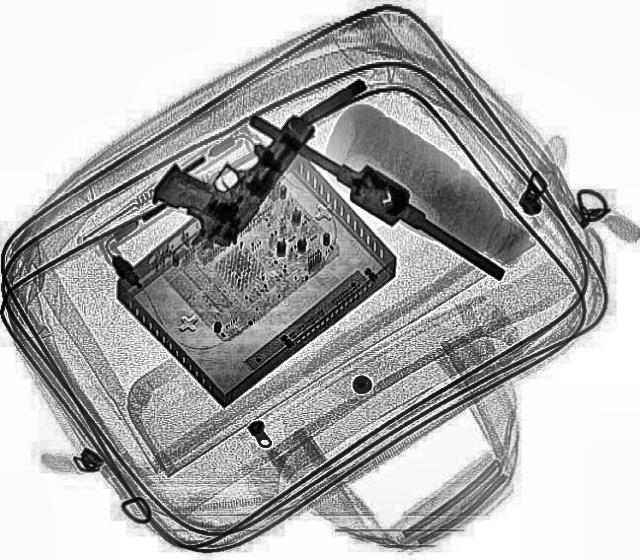Gun: (130, 82, 320, 258)
